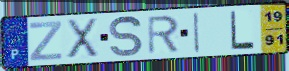I: (193, 11, 201, 55)
L: (229, 10, 256, 51)
R: (146, 14, 181, 56)
S: (108, 14, 145, 58)
X: (65, 17, 101, 59)
Z: (28, 19, 63, 62)
